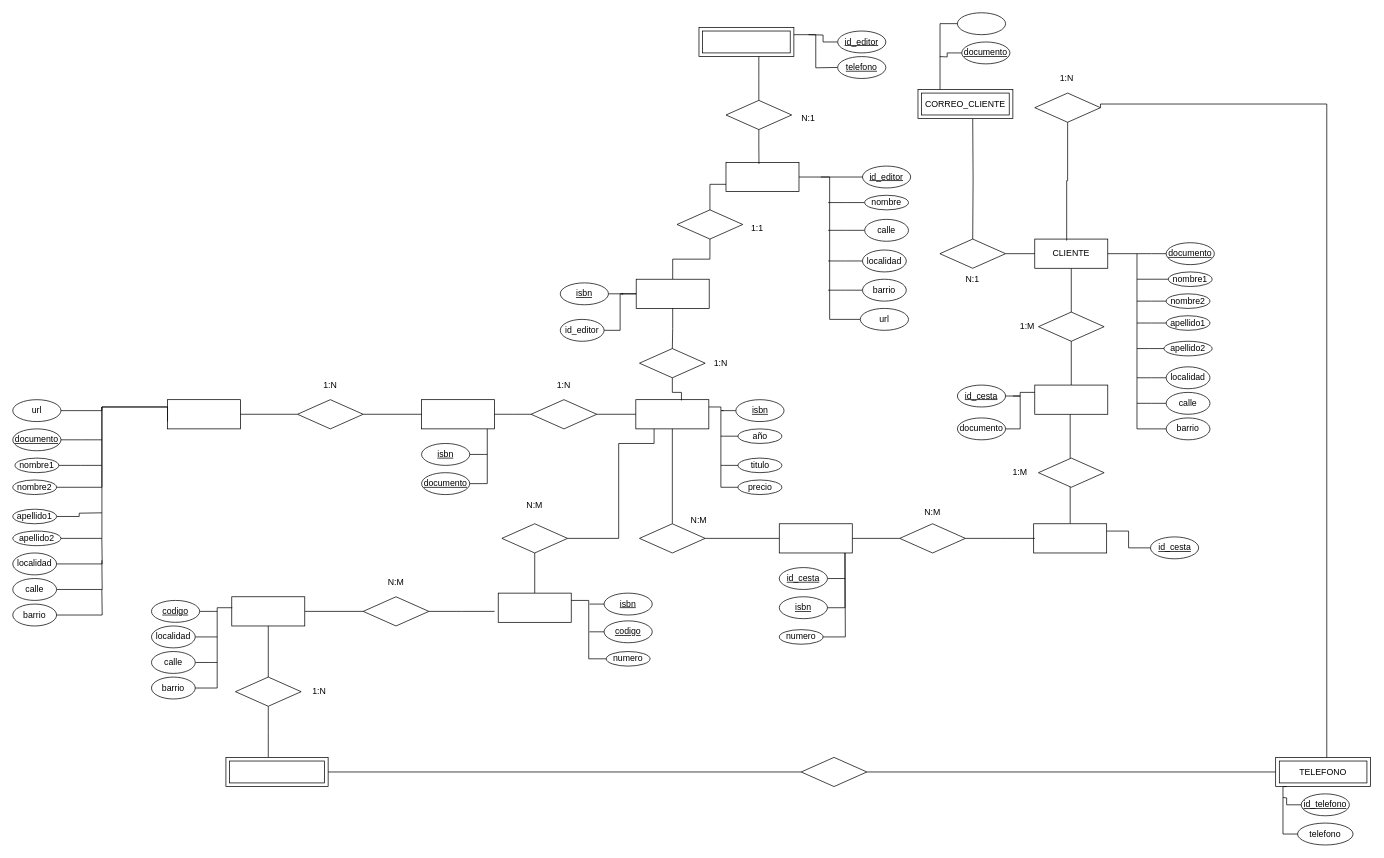
This 1384x858 diagram has some shape labels left out. The shapes that lost their labels are listed below. From the top down, each one's box as (x1, y1, x2, y2) in pixels, then its label:
(698, 27, 794, 57): TELEFONO_EDITOR
(957, 12, 1006, 35): correo
(725, 162, 799, 192): EDITOR
(635, 278, 709, 308): EDI_LIB
(167, 399, 241, 429): AUTOR
(421, 399, 495, 429): AUT_LIB
(635, 399, 709, 429): LIBRO
(1034, 384, 1108, 414): CLI_CES
(779, 523, 852, 553): LIB_CES
(1033, 523, 1107, 553): CESTA_COMPRA
(231, 596, 305, 626): ALMACEN
(497, 592, 571, 622): LIB_ALM
(225, 757, 328, 787): TELEFONO_ALMACEN
